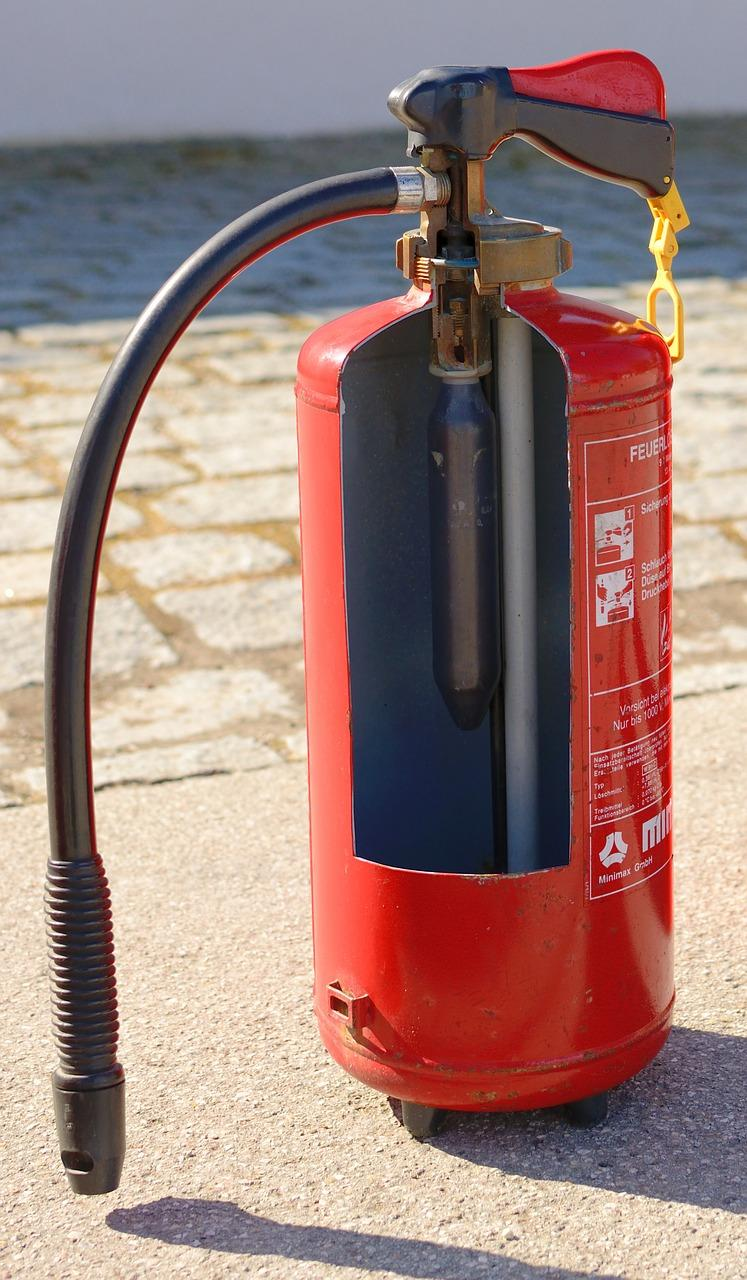Fire Extinguisher: (30, 20, 700, 1227)
